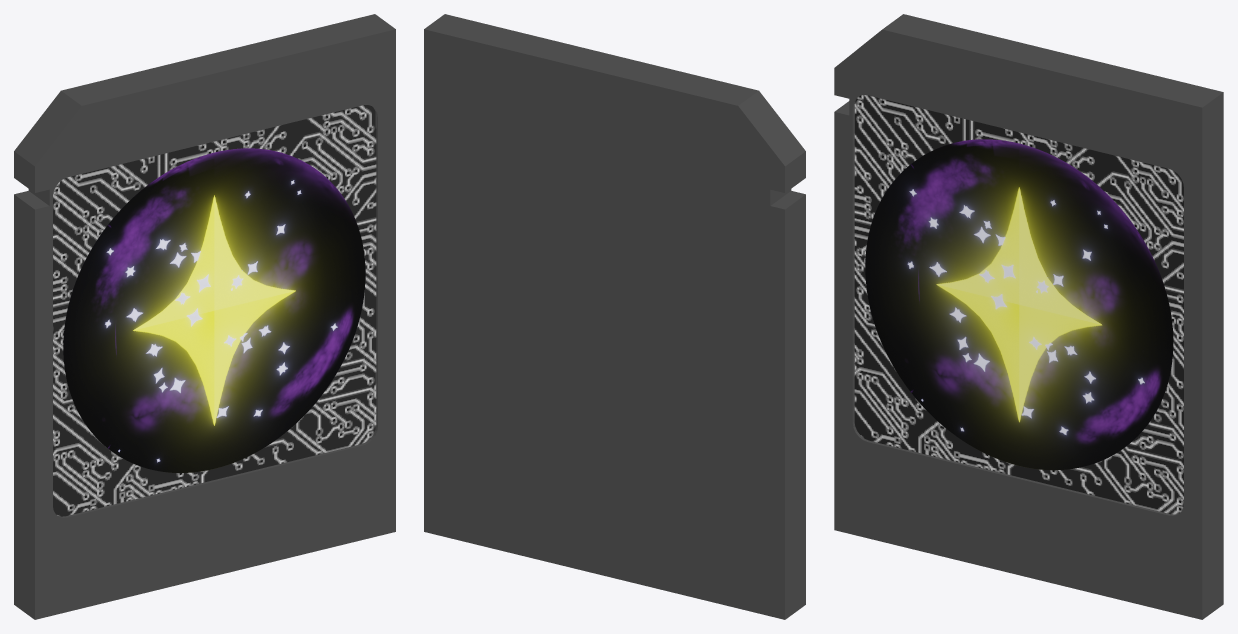
File: cartridge.glb
The picture shows the model from 3 angles, left to right: view 1: azimuth 30°, elevation 25°; view 2: azimuth 150°, elevation 25°; view 3: azimuth 330°, elevation 25°; orthographic projection.
Parts seen in each view (by area): view 1: Body, Icon; view 2: Body; view 3: Body, Icon.
Part boxes in pixels (x1,y1,x2,y2): Body: (14, 14, 395, 619); Icon: (63, 148, 365, 472); Body: (424, 14, 805, 619); Body: (834, 14, 1223, 619); Icon: (865, 139, 1173, 470).
Bounding box in the file's own units: 0.05 × 0.0665 × 0.005.
2 materials, 1 textured.
